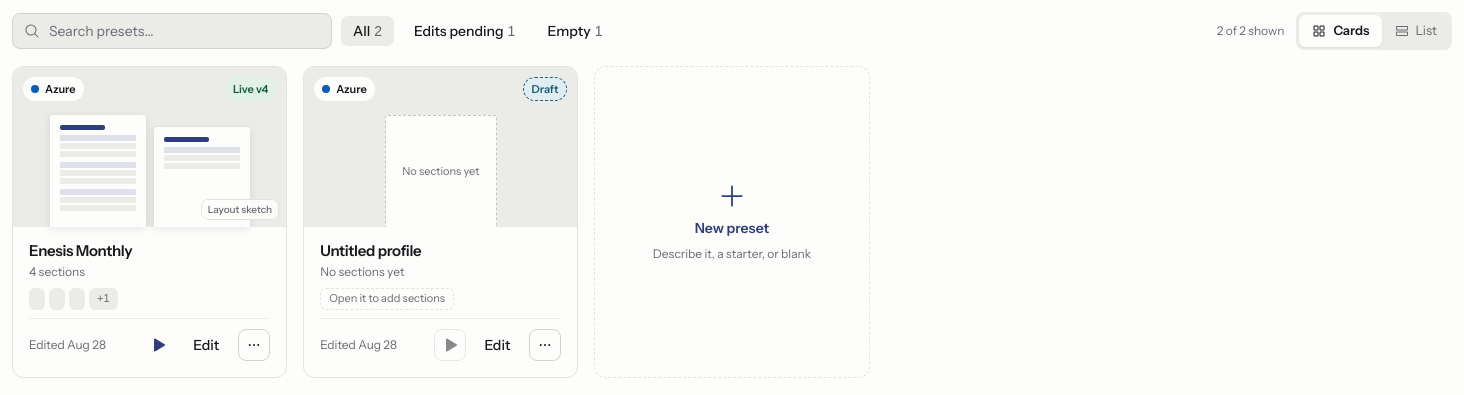
it: narrowing the list › a search matching nothing says so and names the term
The image size is (1464, 395).
Type "zzz" into the search field labelled "Search presets" at (172, 31), box [12, 13, 332, 49]
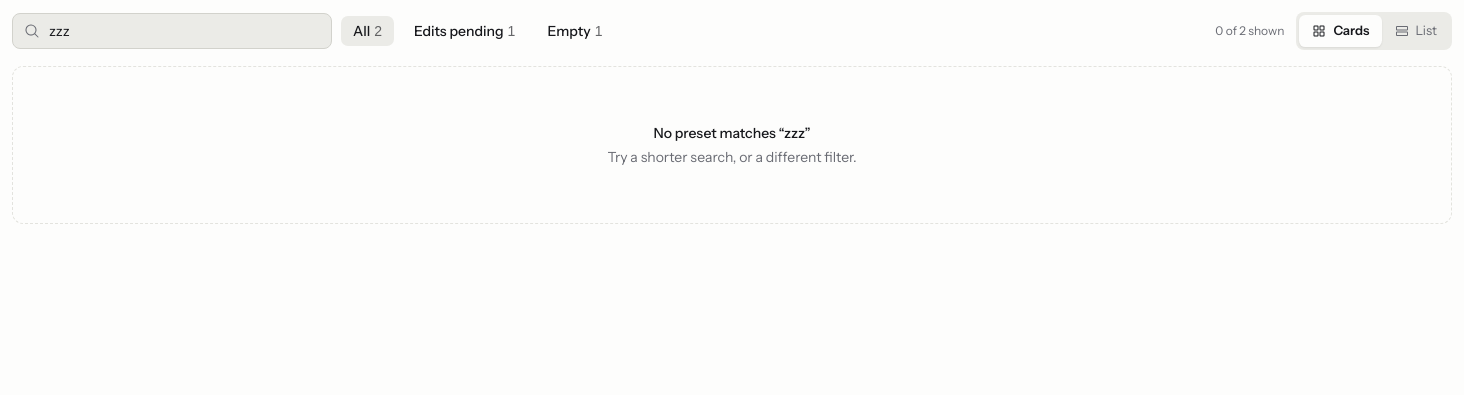
Check: the text "No preset matches “zzz”" is shown, box [653, 124, 811, 142]
